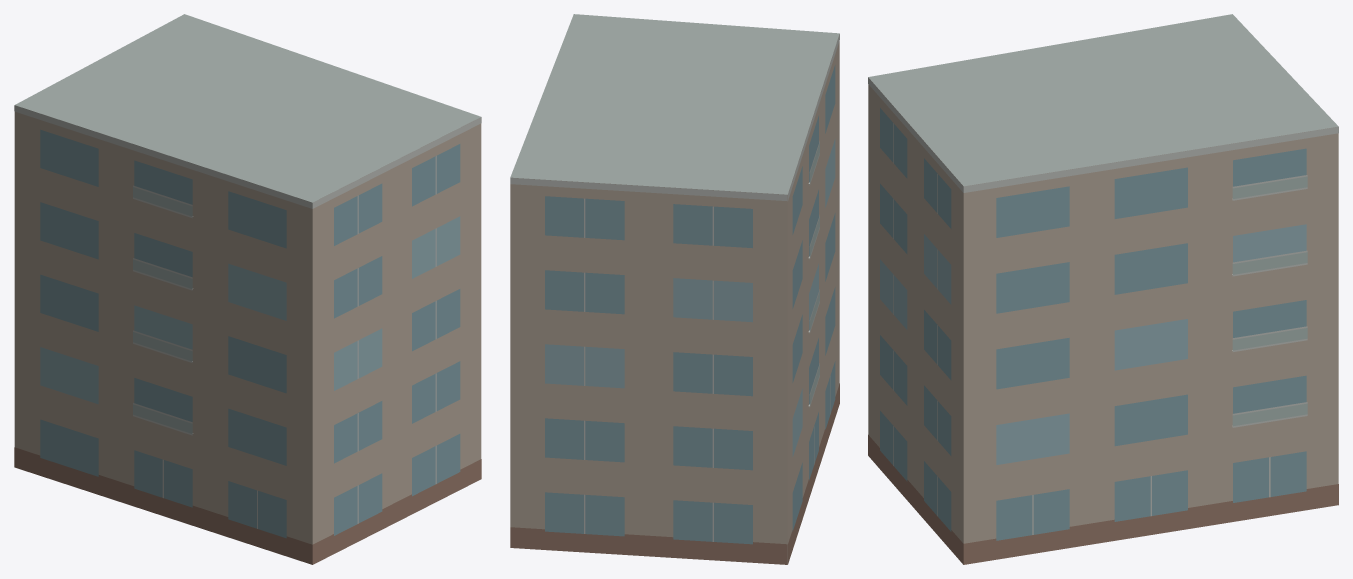
File: survey-upis-33042701.glb
3 views of the same model, side by side, from view 1: azimuth 30°, elevation 25°; view 2: azimuth 150°, elevation 25°; view 3: azimuth 270°, elevation 25° (orthographic). The views are drawn at different scales.
Parts seen in each view (by area): view 1: survey-upis-33042701.tmp; view 2: survey-upis-33042701.tmp; view 3: survey-upis-33042701.tmp.
Part boxes in pixels (<box>): survey-upis-33042701.tmp: <box>14,14,481,564</box>; survey-upis-33042701.tmp: <box>510,14,839,564</box>; survey-upis-33042701.tmp: <box>868,14,1338,564</box>.
Size of the model in its own units: 13.49 by 13.8 by 15.57.
